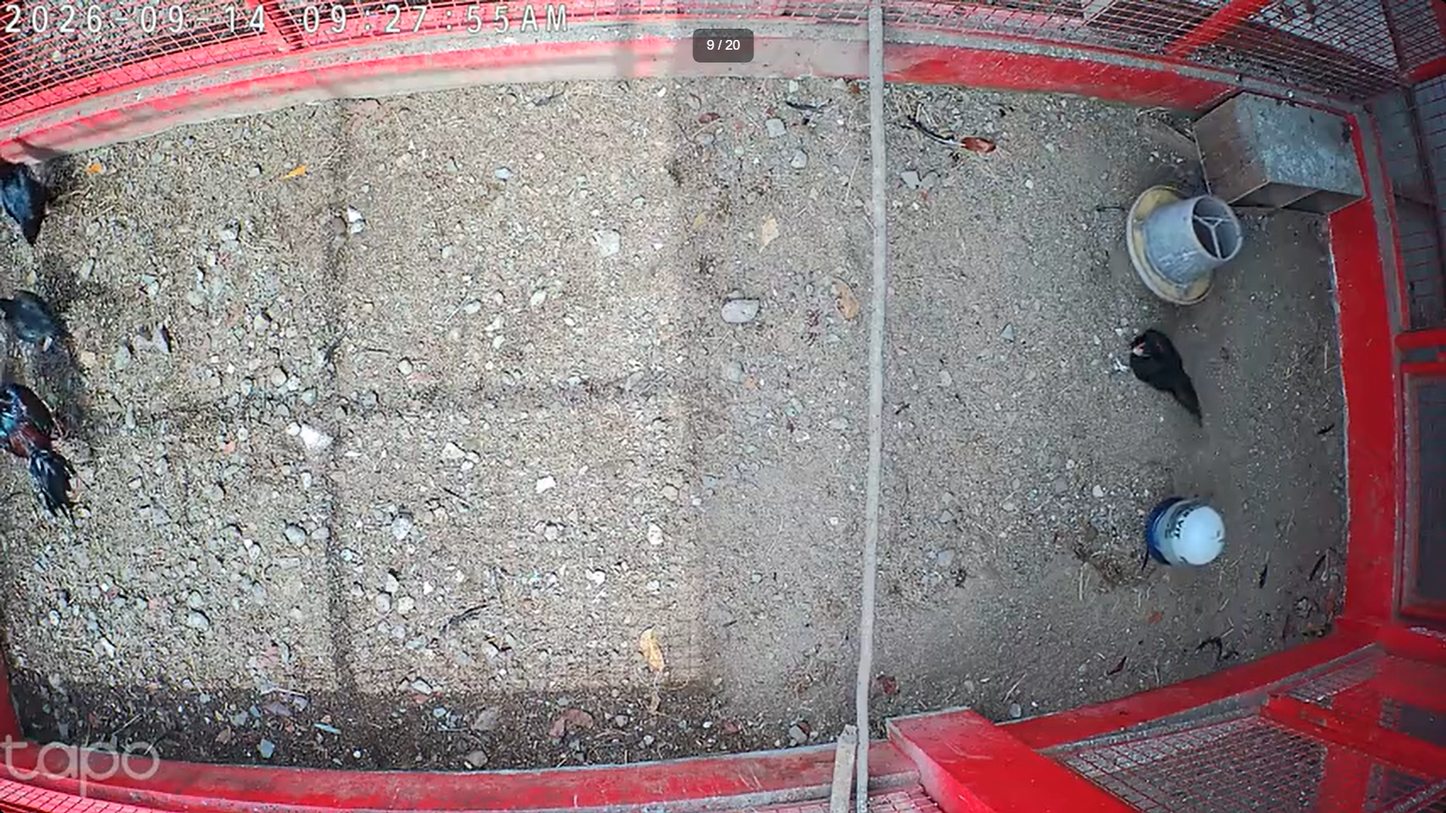Chicken: (1114, 324, 1208, 429)
